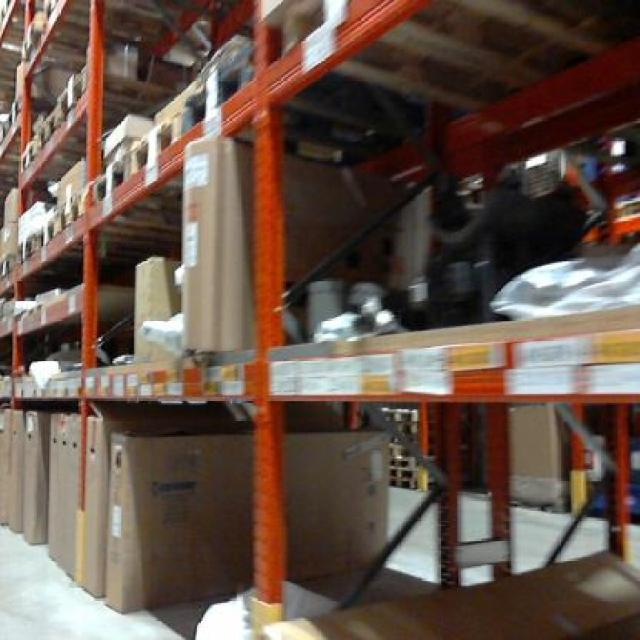pallet: (9, 62, 90, 170), (163, 48, 249, 138)
